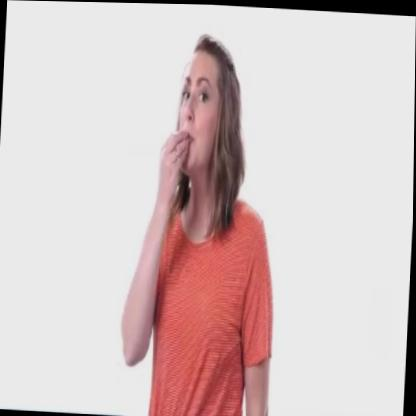Food: (149, 23, 252, 211)
